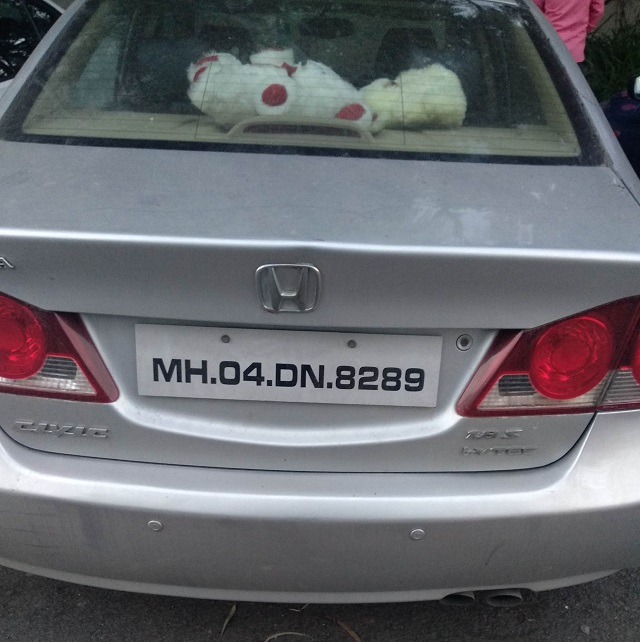licenseplate: (130, 322, 445, 413)
